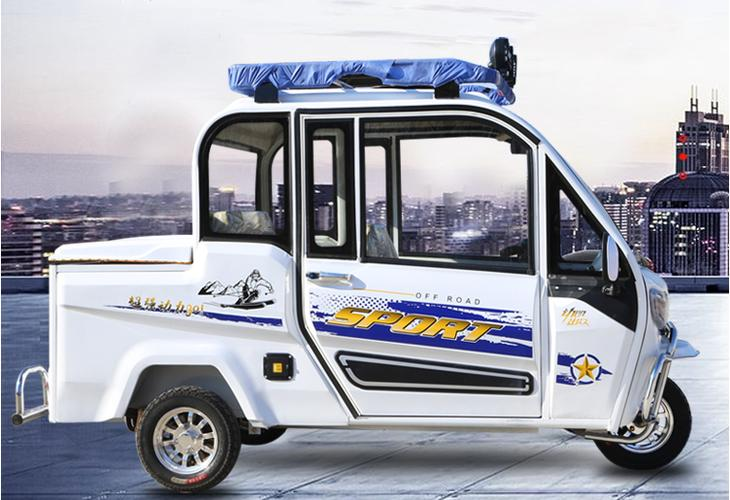empty: (31, 46, 715, 494)
